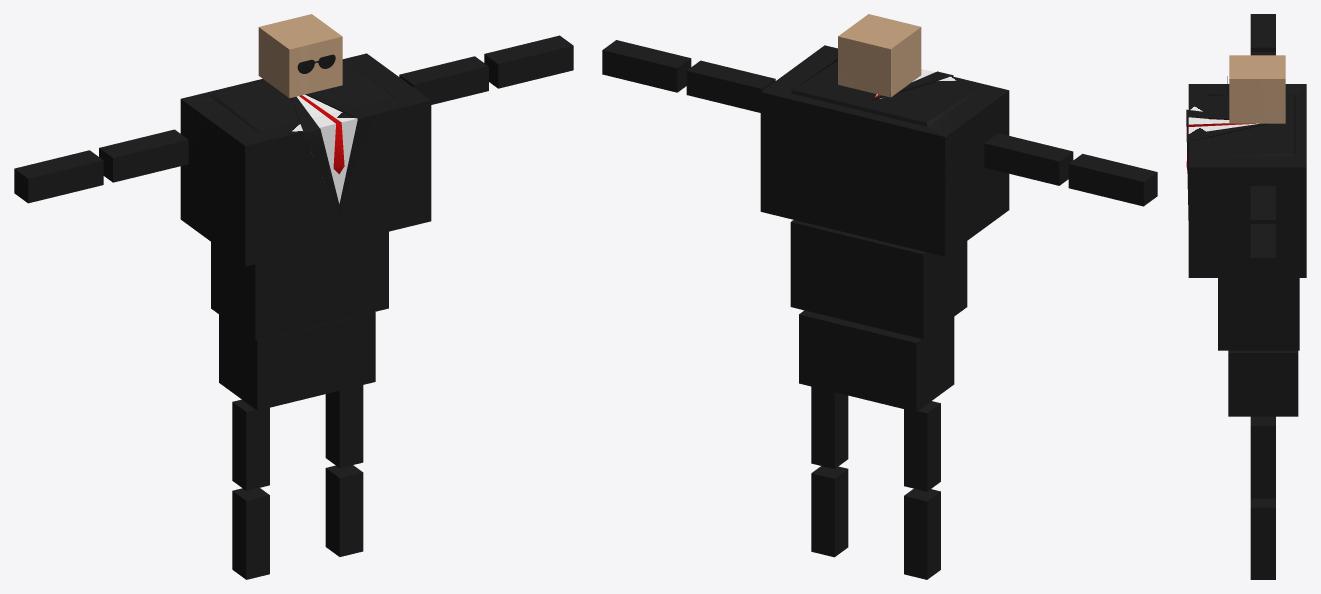
Rendered from Bodyguard.fbx.
3 views of the same model, side by side, from view 1: azimuth 30°, elevation 25°; view 2: azimuth 150°, elevation 25°; view 3: azimuth 270°, elevation 25° (orthographic). The views are drawn at different scales.
Visible parts, largest first — view 1: Main_PLayer__Bodyguard_1; view 2: Main_PLayer__Bodyguard_1; view 3: Main_PLayer__Bodyguard_1.
Part boxes in pixels (x1,y1,x2,y2): Main_PLayer__Bodyguard_1: [14, 14, 573, 579]; Main_PLayer__Bodyguard_1: [602, 14, 1157, 579]; Main_PLayer__Bodyguard_1: [1186, 14, 1306, 579].
Size of the model in its own units: 201 by 187 by 41.92.
Materials: 4 (1 with a texture image).
